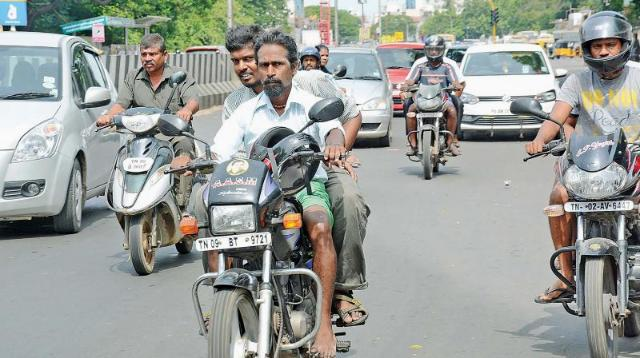licensePlate: (194, 236, 270, 251), (562, 202, 633, 214), (125, 159, 155, 174), (415, 111, 448, 119)
motorcycle: (201, 21, 369, 358), (538, 7, 640, 358), (106, 29, 199, 278), (403, 28, 465, 180)
withHelmet: (580, 13, 633, 74), (426, 35, 450, 62), (301, 49, 323, 71)
withoutHelmet: (254, 31, 301, 96), (223, 25, 265, 88), (136, 35, 167, 73), (320, 45, 331, 68)
